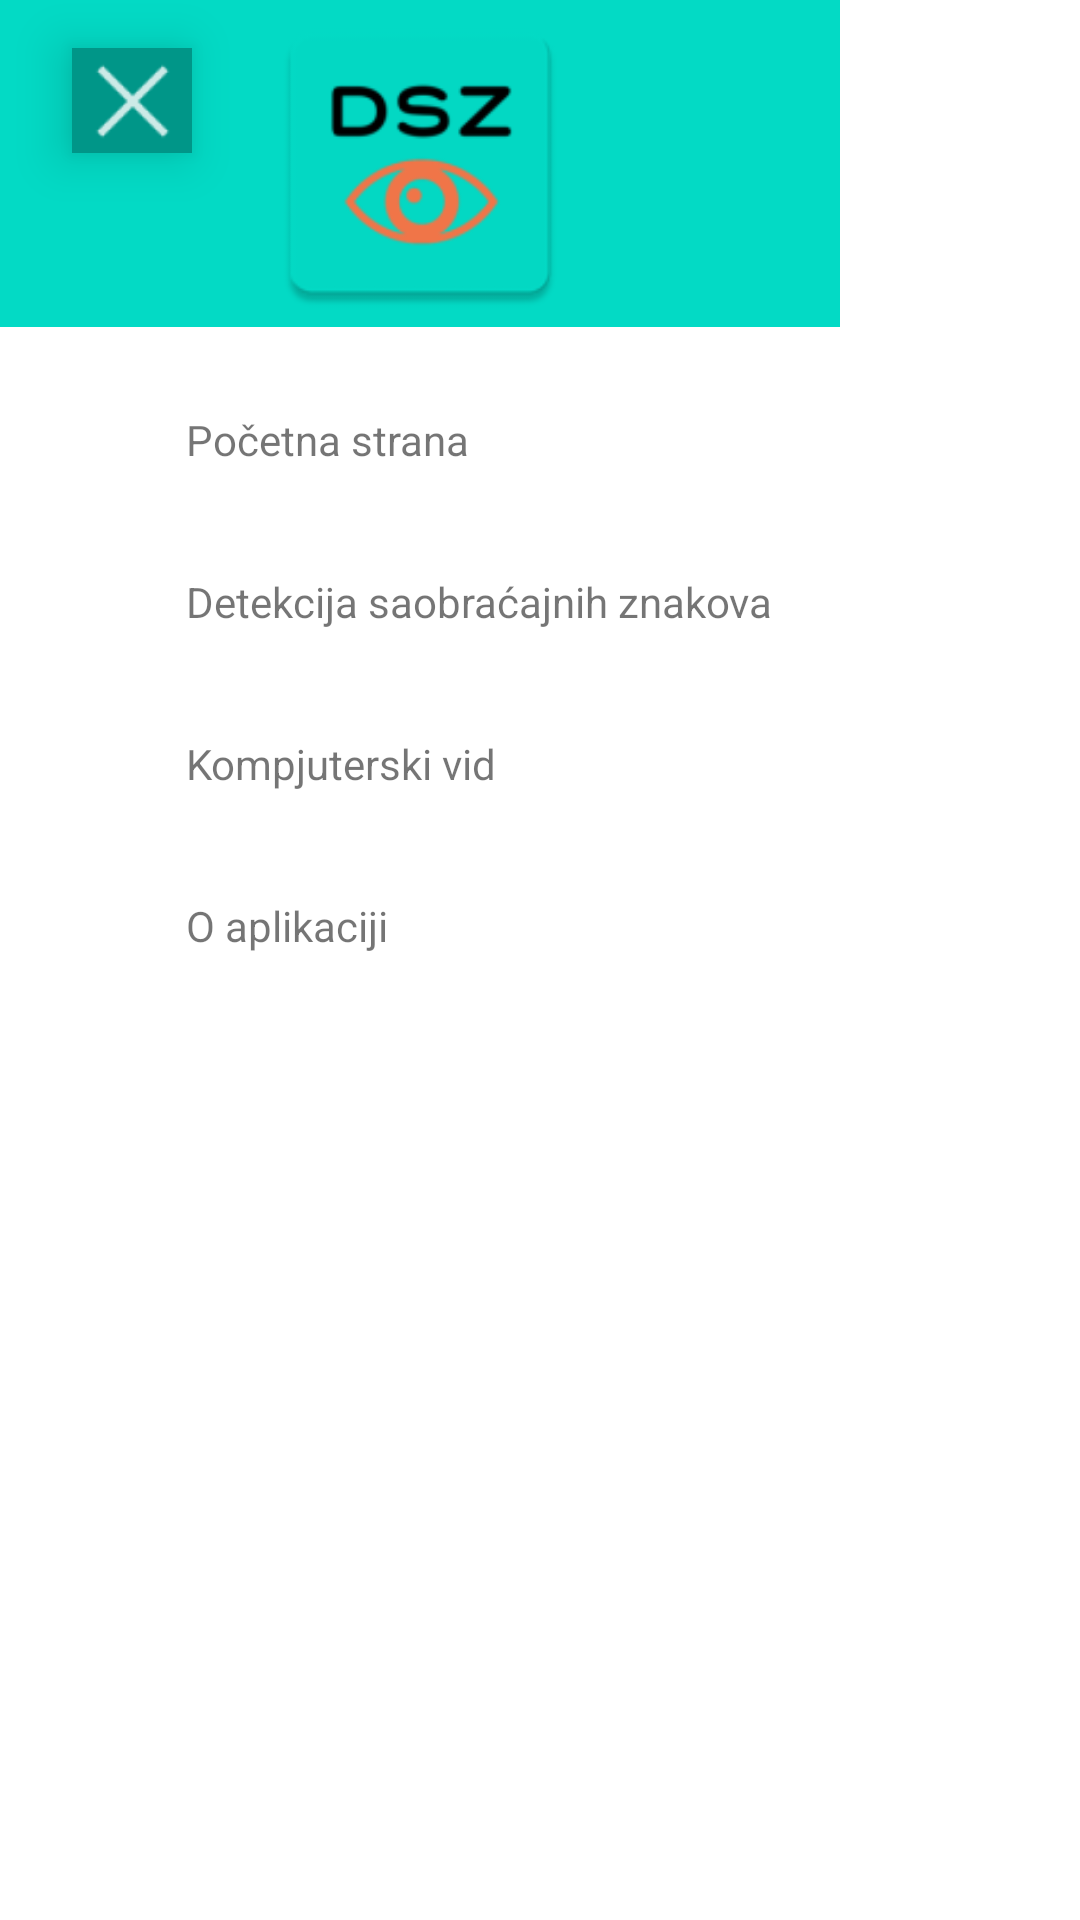

Where icons sit on this 1080×1920 app screen, as (x1, y1, x2, y2):
close hamburger: (72, 48, 192, 153)
